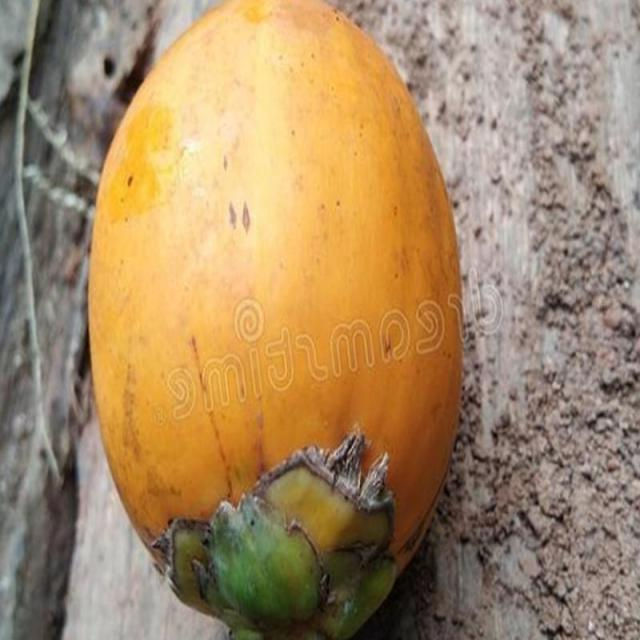good: (86, 0, 463, 639)
